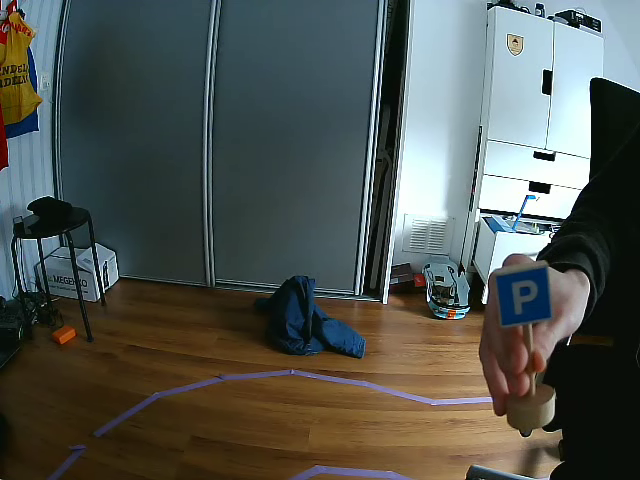parkeerbord: (496, 260, 551, 329)
